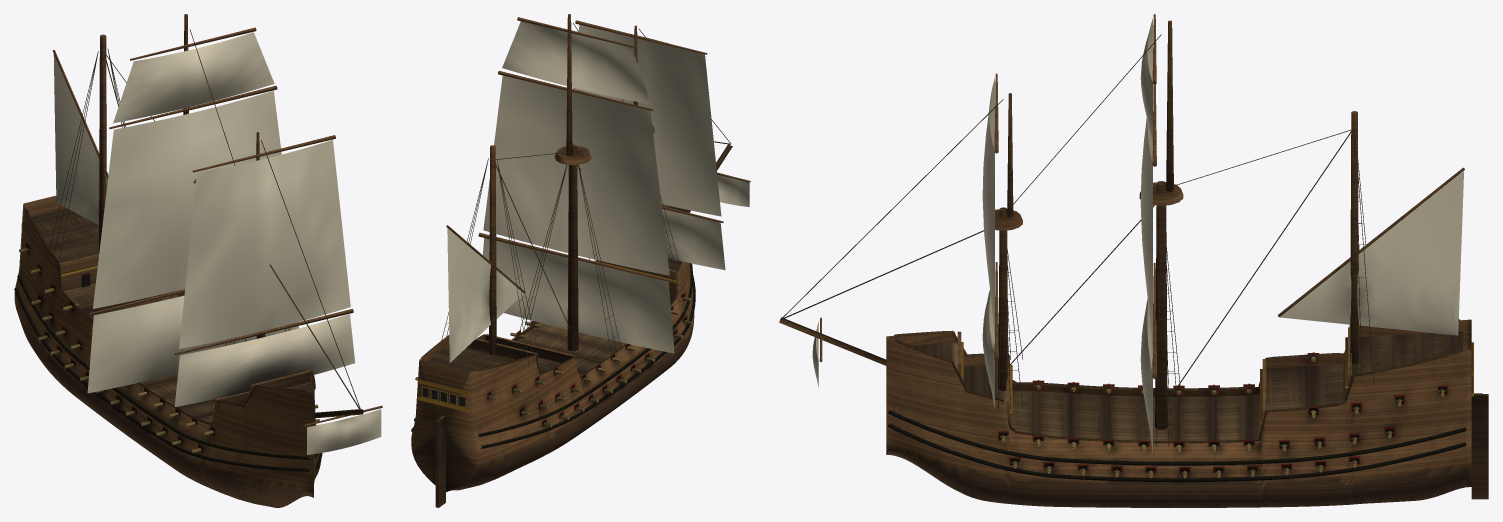
The model's file is model_built.glb.
3 renders of one model, left to right at view 1: azimuth 30°, elevation 25°; view 2: azimuth 150°, elevation 25°; view 3: azimuth 270°, elevation 25°, orthographic. The views are drawn at different scales.
Parts seen in each view (by area): view 1: sails, hull, rig, rigging, guns; view 2: sails, hull, rig, rigging, guns; view 3: hull, sails, rig, rigging, guns.
Part boxes in pixels (x1=…): sails: x1=53, y1=32, x2=381, y2=454; hull: x1=14, y1=195, x2=322, y2=507; rig: x1=53, y1=14, x2=382, y2=426; rigging: x1=46, y1=29, x2=361, y2=411; guns: x1=19, y1=247, x2=319, y2=453; sails: x1=447, y1=21, x2=749, y2=362; hull: x1=411, y1=204, x2=695, y2=507; rig: x1=446, y1=14, x2=750, y2=354; rigging: x1=441, y1=23, x2=731, y2=366; guns: x1=415, y1=296, x2=692, y2=427; hull: x1=886, y1=319, x2=1488, y2=507; sails: x1=812, y1=18, x2=1463, y2=453; rig: x1=779, y1=14, x2=1464, y2=429; rigging: x1=780, y1=34, x2=1374, y2=446; guns: x1=1000, y1=352, x2=1445, y2=478.
Bounding box in the file's own units: 22.36 × 43.31 × 58.18.
5 materials, 2 textured.
